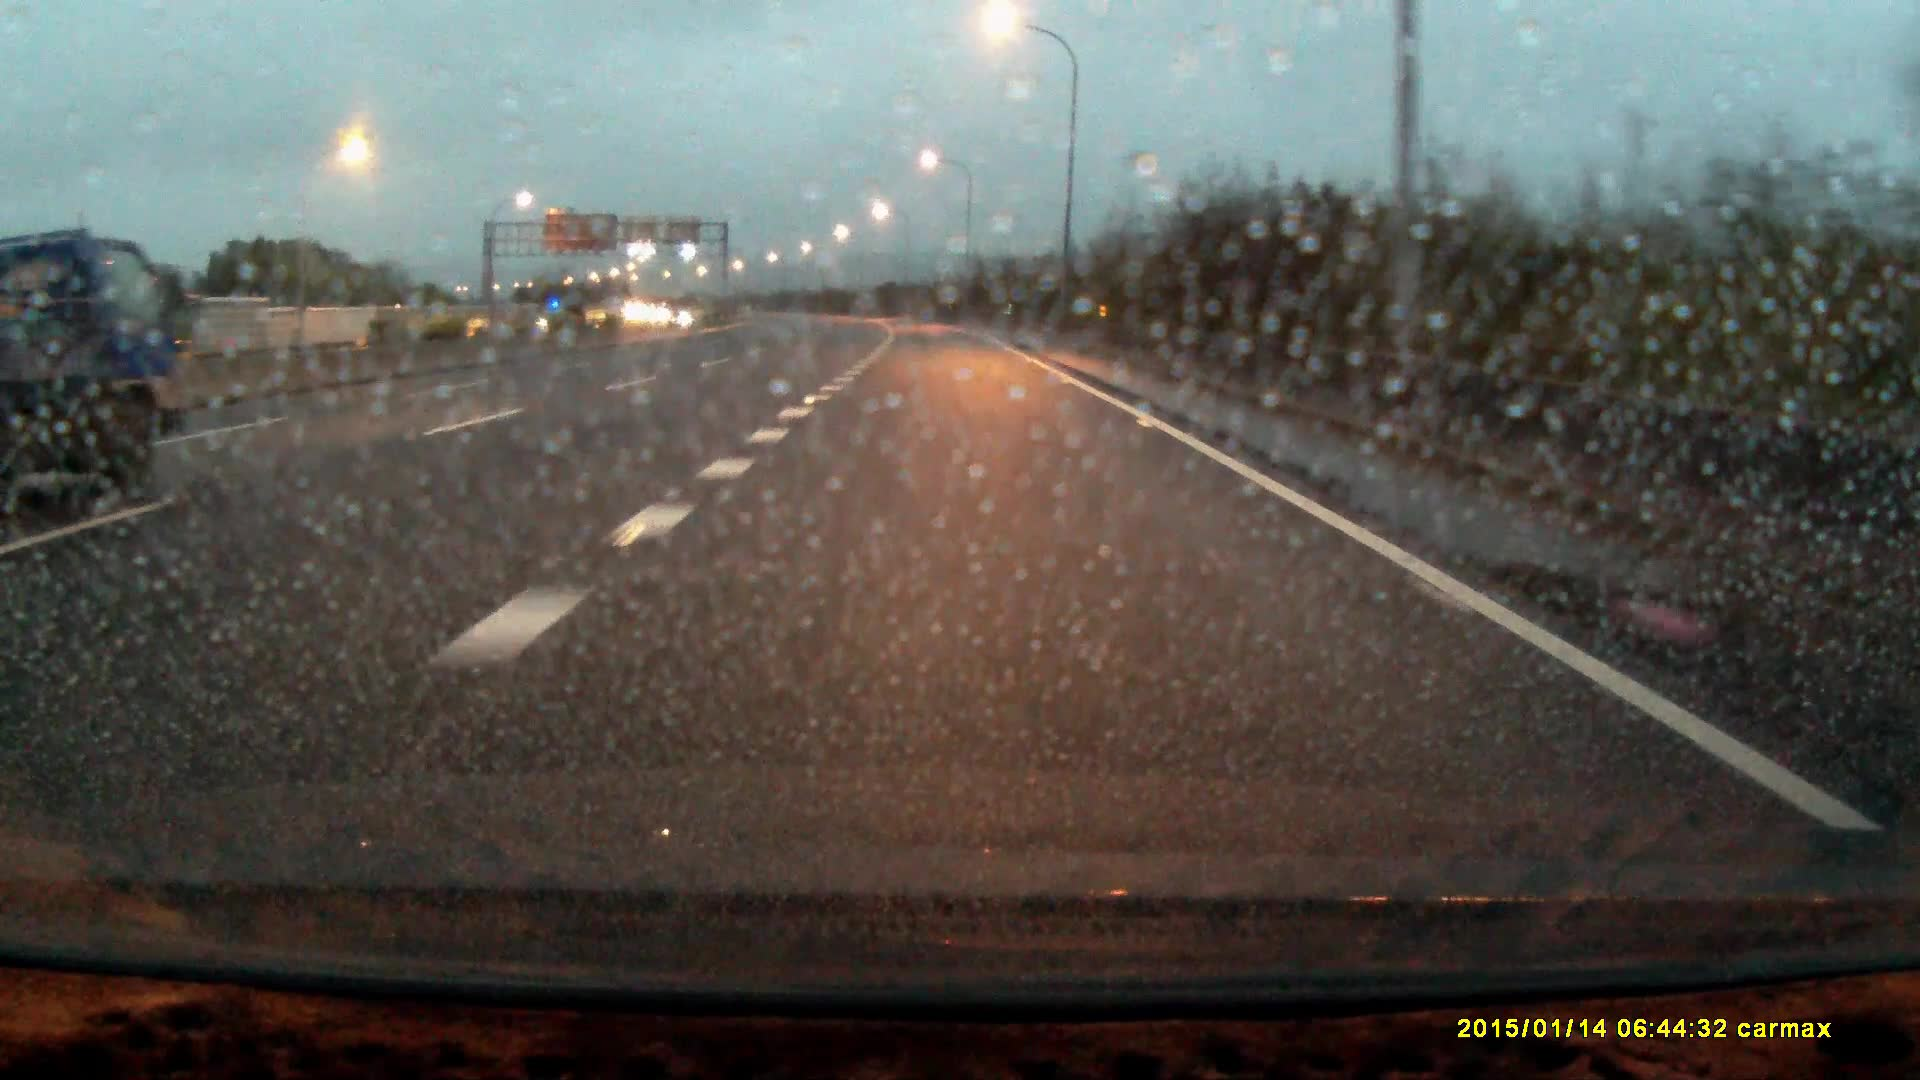vehicle: (1, 219, 219, 525)
